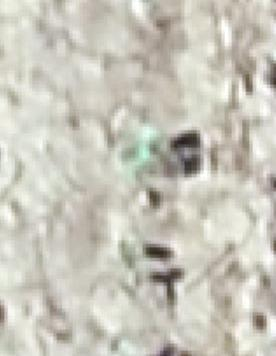cotton: (132, 133, 155, 162)
